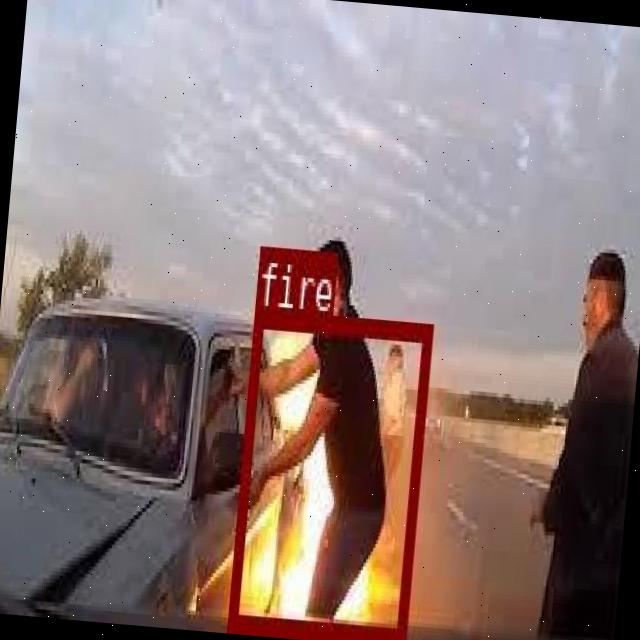fire: (226, 308, 430, 640)
